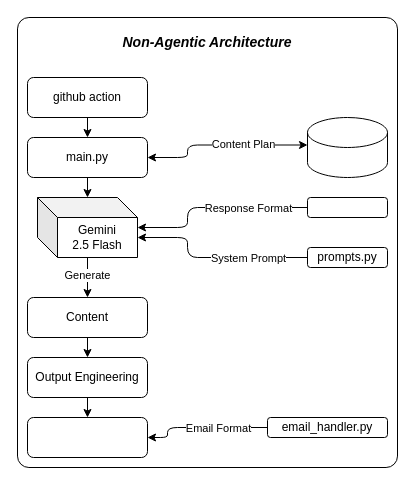
This 415x485 diagram has some shape labels left out. Each missing label, with the centre of its shape:
"models.py" belongs at [347,207].
"Send Email" belongs at [87,437].
"utils.py" belongs at [347,147].
